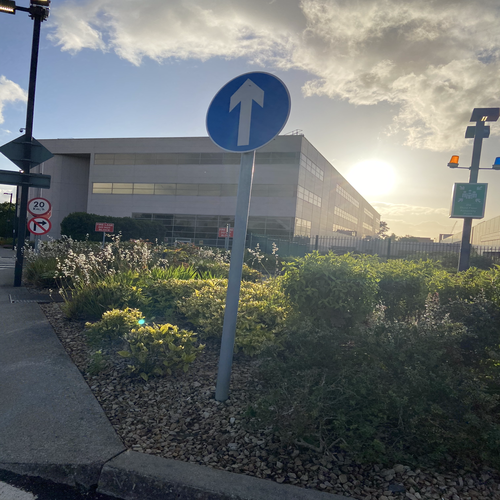Ahead Only: (205, 71, 294, 150)
No Turn: (25, 218, 53, 237)
Speed Limit: (28, 195, 52, 216)
